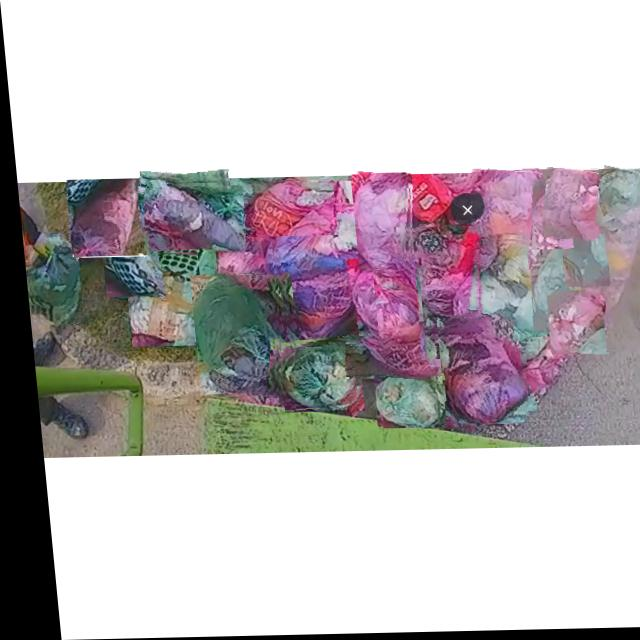general_trashbag: (187, 277, 276, 397), (464, 242, 551, 340), (128, 251, 215, 346), (273, 348, 350, 410), (23, 235, 73, 325), (368, 377, 453, 429), (97, 233, 154, 296), (528, 252, 575, 324), (125, 187, 190, 229), (590, 172, 638, 227), (557, 240, 601, 289), (137, 172, 225, 192)
other_trashbag: (268, 182, 366, 348), (340, 270, 432, 379), (432, 321, 521, 425), (412, 229, 476, 362), (146, 186, 240, 252), (351, 175, 407, 272), (469, 171, 540, 241), (67, 183, 135, 256), (241, 182, 330, 237), (540, 171, 596, 240), (192, 227, 266, 278), (543, 302, 599, 356), (529, 186, 567, 248)
